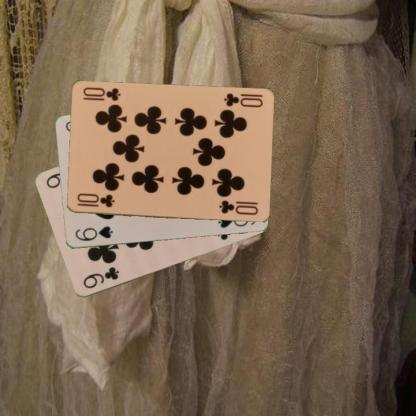10c: (221, 90, 264, 108), (74, 191, 116, 209)
6s: (72, 224, 115, 242)
9c: (80, 264, 120, 290)
